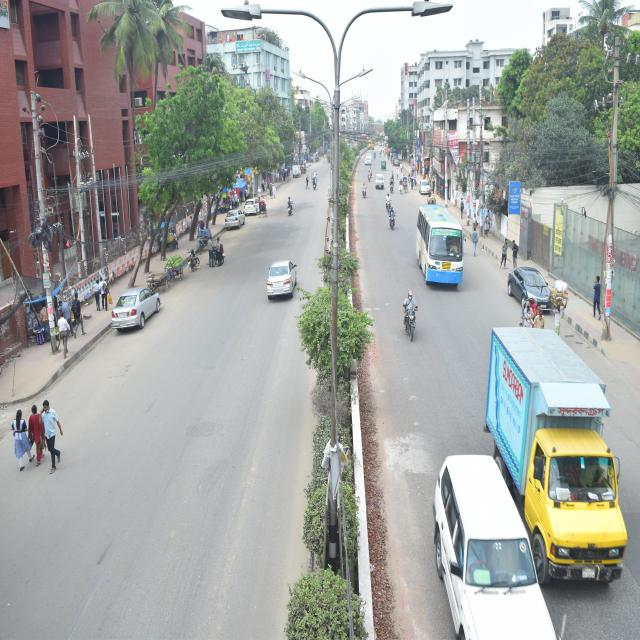bus: (413, 206, 467, 300)
car: (425, 421, 531, 640), (500, 255, 556, 320), (109, 281, 168, 338), (264, 248, 304, 314), (240, 188, 260, 218), (222, 207, 241, 229), (363, 150, 375, 166), (376, 173, 386, 192), (419, 182, 429, 196)
motorbike: (393, 268, 421, 337), (207, 232, 229, 266), (281, 192, 299, 227), (310, 168, 320, 195), (360, 178, 370, 203), (384, 198, 395, 215), (393, 202, 400, 228), (389, 173, 396, 197)
truck: (486, 327, 626, 580)
